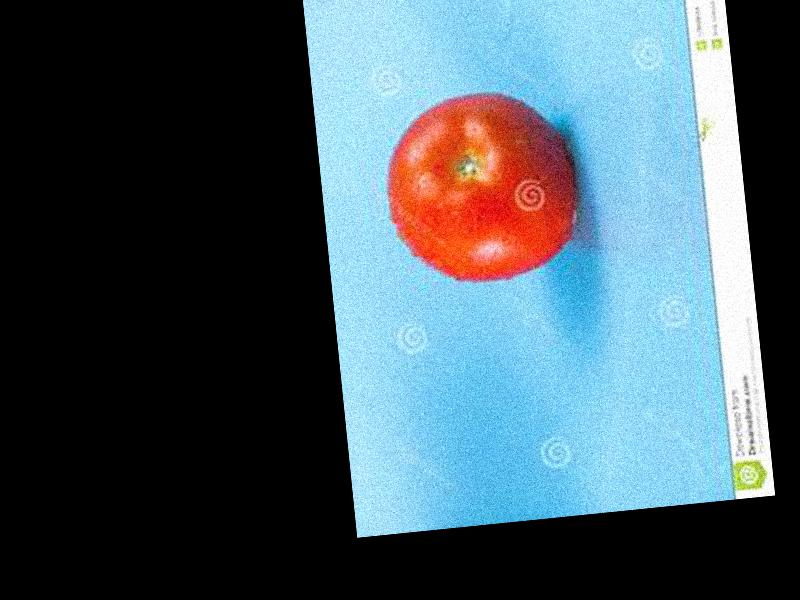Tomato: (379, 82, 582, 290)
